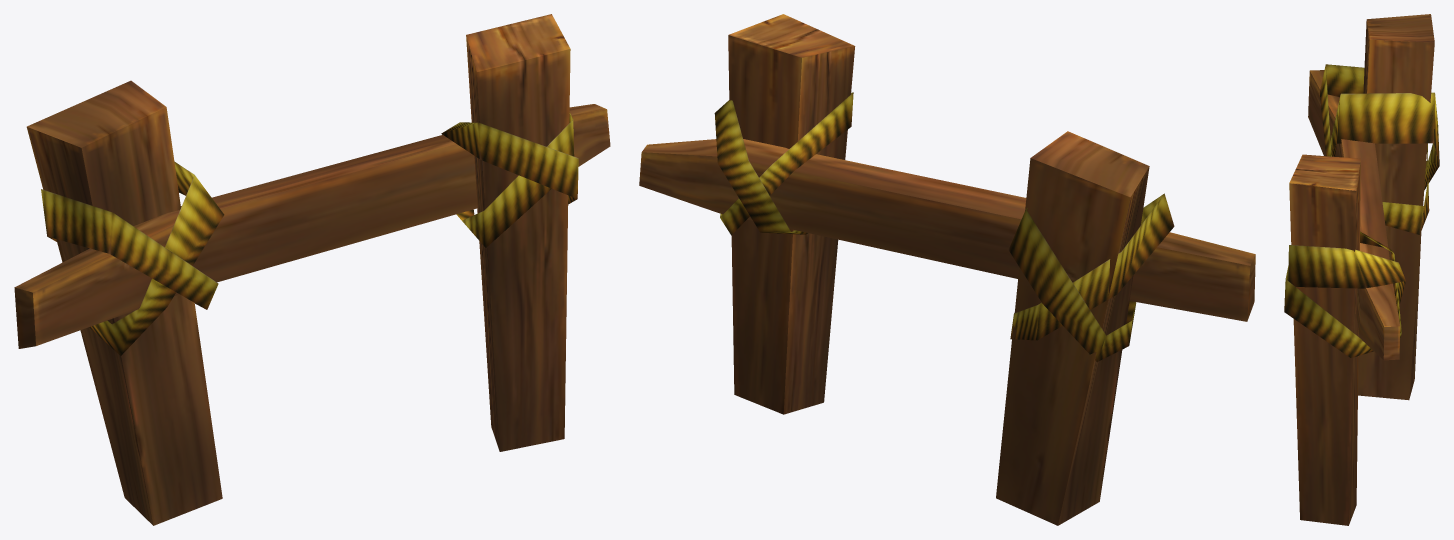
File: Zhalan01.FBX
3 views of the same model, side by side, from view 1: azimuth 30°, elevation 25°; view 2: azimuth 150°, elevation 25°; view 3: azimuth 270°, elevation 25° (orthographic). The views are drawn at different scales.
Parts seen in each view (by area): view 1: Box14; view 2: Box14; view 3: Box14.
Boxes of the visible parts, x1,y1,x2,y2 form: Box14: (14, 14, 610, 525); Box14: (639, 14, 1255, 525); Box14: (1284, 14, 1439, 525).
Size of the model in its own units: 7.41 by 4.66 by 1.87.
